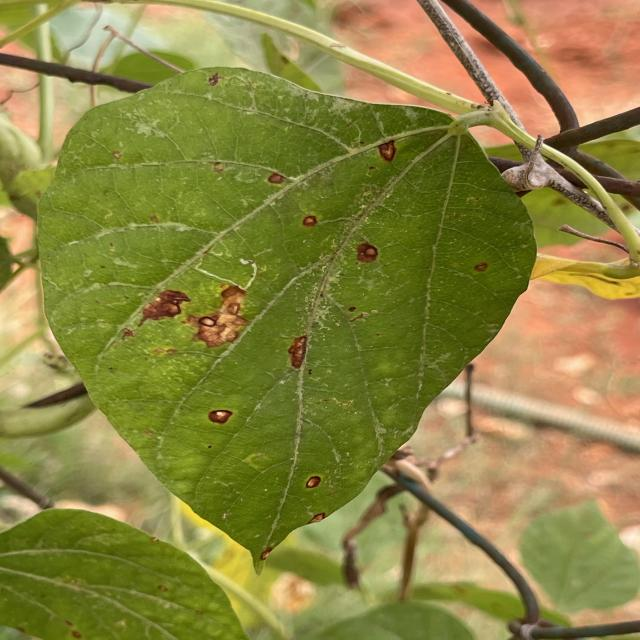Dolicos bean_cercospora leaf spot: (49, 72, 516, 562)
